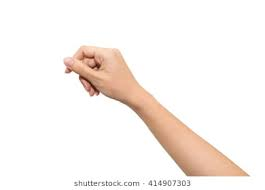hand: (50, 31, 142, 114)
